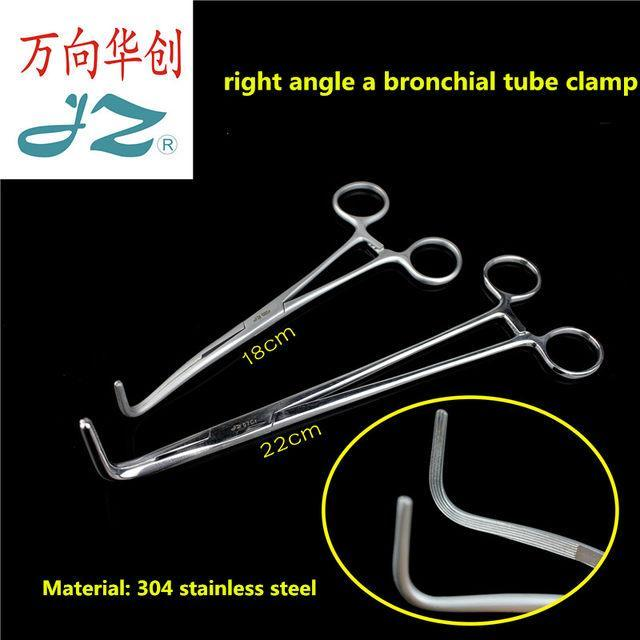Rectangle Cholecystectomy Forceps: (78, 251, 616, 484), (109, 173, 467, 420)
